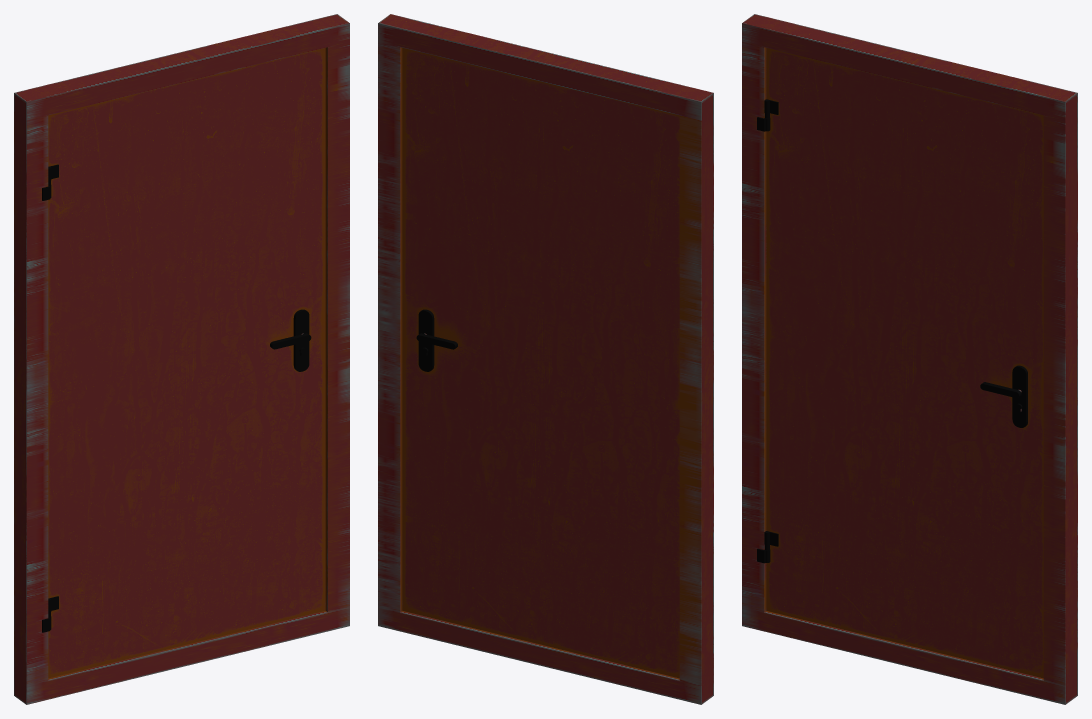
Rendered from SM_DoorMain_001.fbx.
The picture shows the model from 3 angles, left to right: view 1: azimuth 30°, elevation 25°; view 2: azimuth 150°, elevation 25°; view 3: azimuth 330°, elevation 25°; orthographic projection.
Visible parts, largest first — view 1: SM_Door, SM_MainDoor_001; view 2: SM_Door, SM_MainDoor_001; view 3: SM_Door, SM_MainDoor_001.
Part boxes in pixels (x1,y1,x2,y2): SM_Door: (48,48,325,678); SM_MainDoor_001: (14,14,349,704); SM_Door: (402,48,679,678); SM_MainDoor_001: (378,14,713,704); SM_Door: (764,48,1043,678); SM_MainDoor_001: (742,14,1077,704).
Bounding box in the file's own units: 137 × 243 × 14.77.
1 material, 1 textured.
